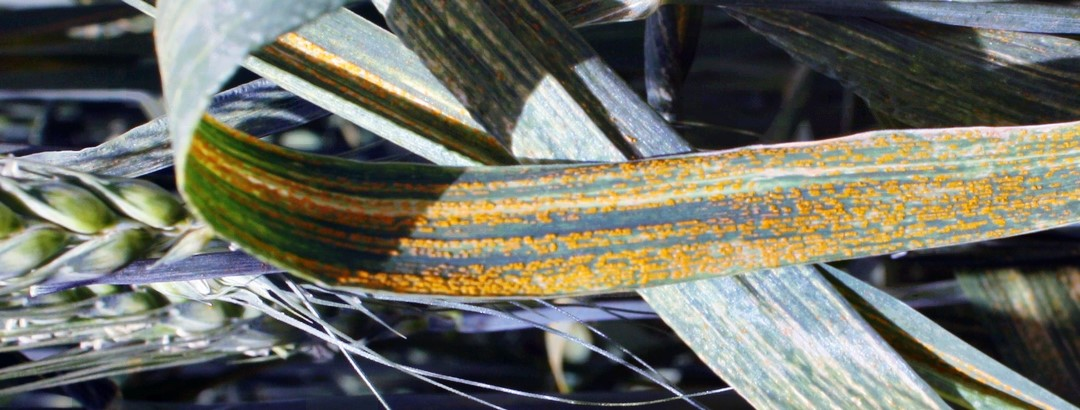Leaf Rust: (370, 119, 1065, 295)
